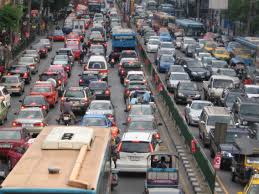nonacc: (7, 25, 251, 188)
